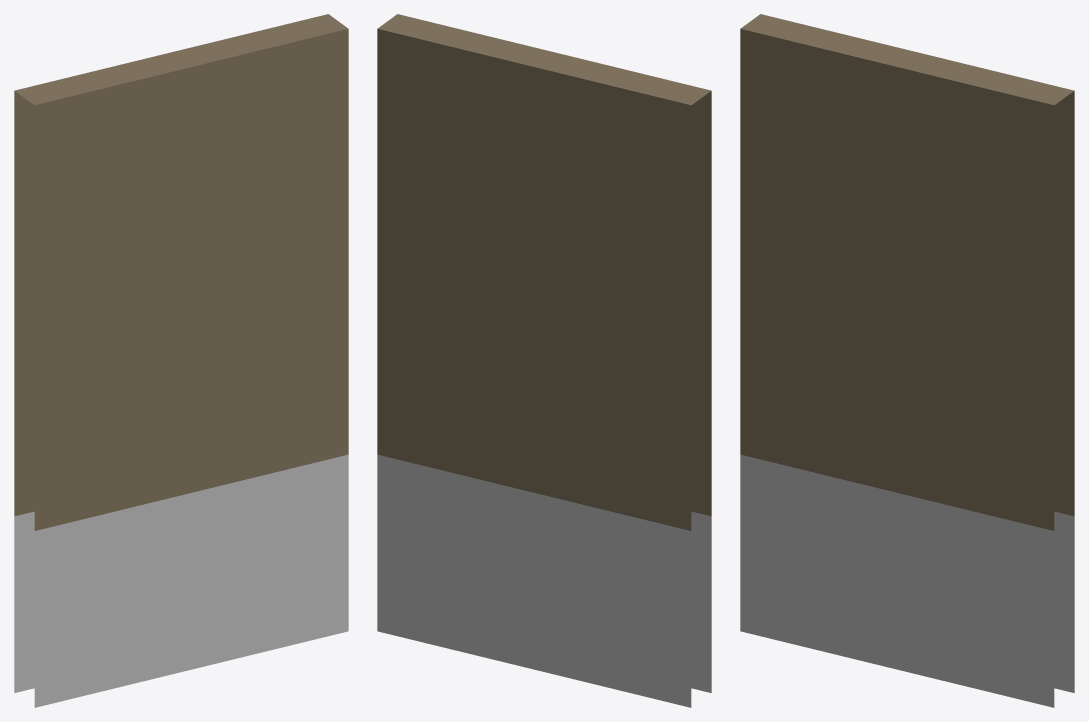
The model's file is SM_Wall_180.FBX.
3 views of the same model, side by side, from view 1: azimuth 30°, elevation 25°; view 2: azimuth 150°, elevation 25°; view 3: azimuth 330°, elevation 25° (orthographic).
Visible parts, largest first — view 1: SM_Wall_180; view 2: SM_Wall_180; view 3: SM_Wall_180.
Part boxes in pixels (left/top/right/bottom): SM_Wall_180: left=14, top=14, right=348, bottom=707; SM_Wall_180: left=377, top=14, right=711, bottom=707; SM_Wall_180: left=740, top=14, right=1074, bottom=707.
Bounding box in the file's own units: 180 × 20 × 330.
